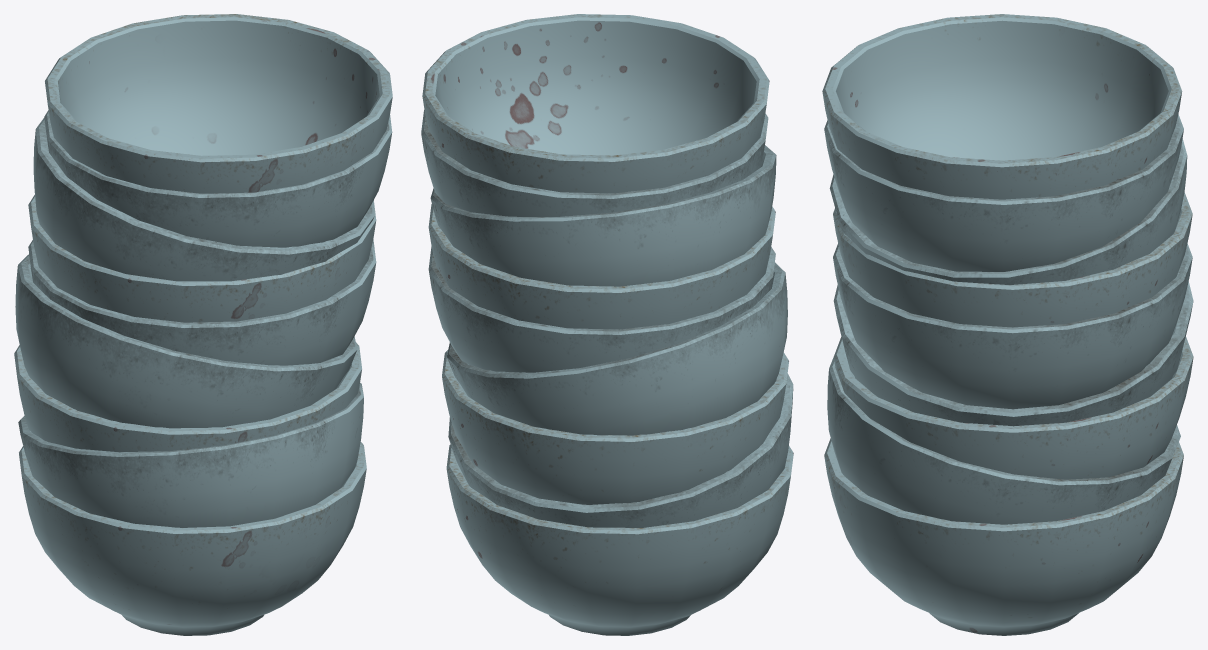
Rendered from bowlStackV1.fbx.
3 renders of one model, left to right at view 1: azimuth 30°, elevation 25°; view 2: azimuth 150°, elevation 25°; view 3: azimuth 270°, elevation 25°, orthographic. The views are drawn at different scales.
Parts seen in each view (by area): view 1: bowl9, bowl8, bowl6, bowl5, bowl1, bowl2, bowl3, bowl4, bowl7; view 2: bowl9, bowl8, bowl5, bowl2, bowl7, bowl3, bowl4, bowl6, bowl1; view 3: bowl9, bowl8, bowl4, bowl1, bowl6, bowl7, bowl3, bowl5, bowl2.
Part boxes in pixels (<box>): bowl9: <box>45,14,392,193</box>; bowl8: <box>19,442,366,635</box>; bowl6: <box>18,382,363,527</box>; bowl5: <box>15,254,357,428</box>; bowl1: <box>44,110,392,247</box>; bowl2: <box>33,118,374,281</box>; bowl3: <box>28,195,376,322</box>; bowl4: <box>28,239,376,365</box>; bowl7: <box>14,342,361,452</box>; bowl9: <box>422,14,769,193</box>; bowl8: <box>446,444,793,635</box>; bowl5: <box>447,262,787,435</box>; bowl2: <box>430,145,776,286</box>; bowl7: <box>442,350,788,504</box>; bowl3: <box>428,204,775,329</box>; bowl4: <box>428,246,775,372</box>; bowl6: <box>448,373,793,527</box>; bowl1: <box>421,110,768,216</box>; bowl9: <box>822,14,1182,199</box>; bowl8: <box>824,438,1183,635</box>; bowl4: <box>833,243,1192,409</box>; bowl1: <box>824,114,1183,271</box>; bowl6: <box>827,357,1180,524</box>; bowl7: <box>834,336,1193,479</box>; bowl3: <box>833,192,1192,327</box>; bowl5: <box>833,282,1193,426</box>; bowl2: <box>829,139,1187,284</box>.
Bounding box in the file's own units: 1183 × 1756 × 1122.
2 materials, 2 textured.
